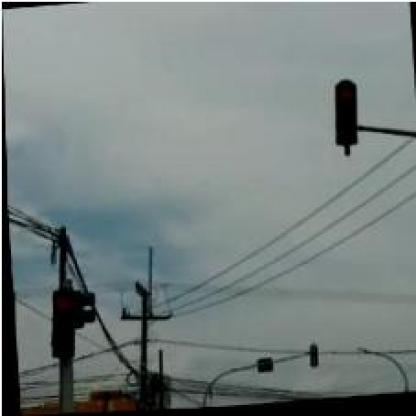red: (45, 288, 76, 357), (332, 82, 361, 148)
